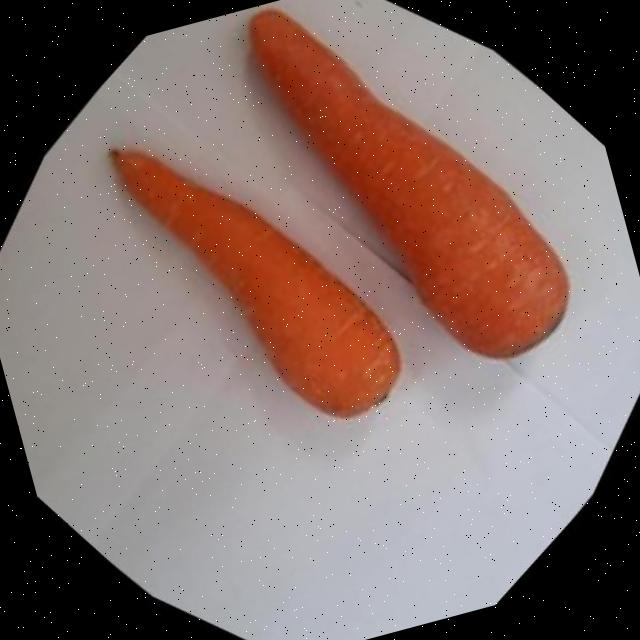carrot: (250, 11, 569, 358), (111, 150, 400, 418)
